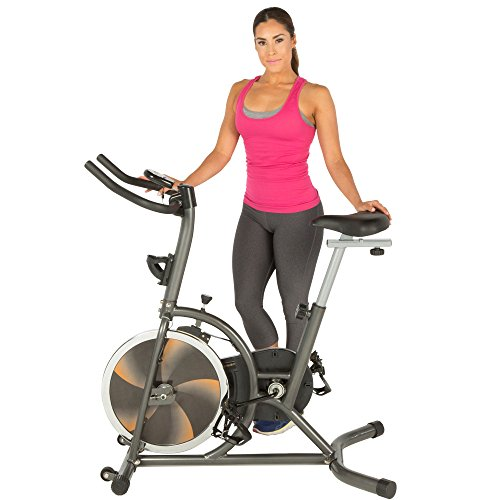gym_bike: (66, 151, 417, 500)
